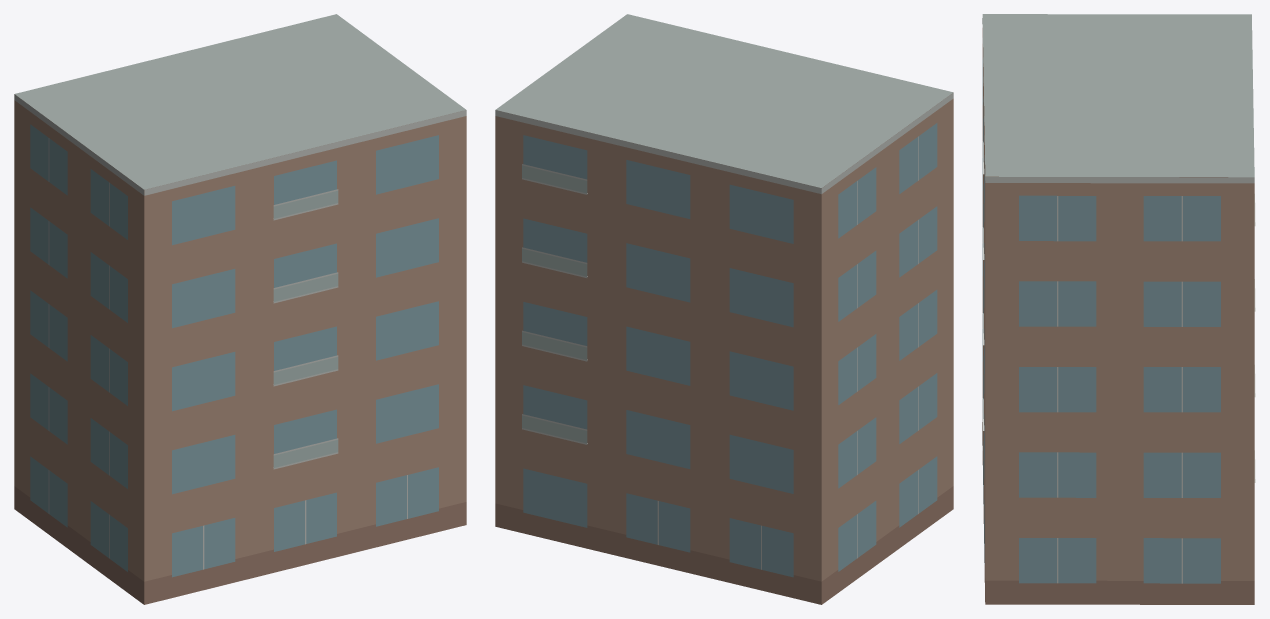
File: survey-upis-32840401.glb
3 renders of one model, left to right at view 1: azimuth 30°, elevation 25°; view 2: azimuth 150°, elevation 25°; view 3: azimuth 270°, elevation 25°, orthographic. The views are drawn at different scales.
Parts seen in each view (by area): view 1: survey-upis-32840401.tmp; view 2: survey-upis-32840401.tmp; view 3: survey-upis-32840401.tmp.
Boxes of the visible parts, x1,y1,x2,y2 form: survey-upis-32840401.tmp: [14, 14, 466, 604]; survey-upis-32840401.tmp: [495, 14, 953, 604]; survey-upis-32840401.tmp: [982, 14, 1255, 604].
Size of the model in its own units: 13.71 by 16.75 by 9.69.
